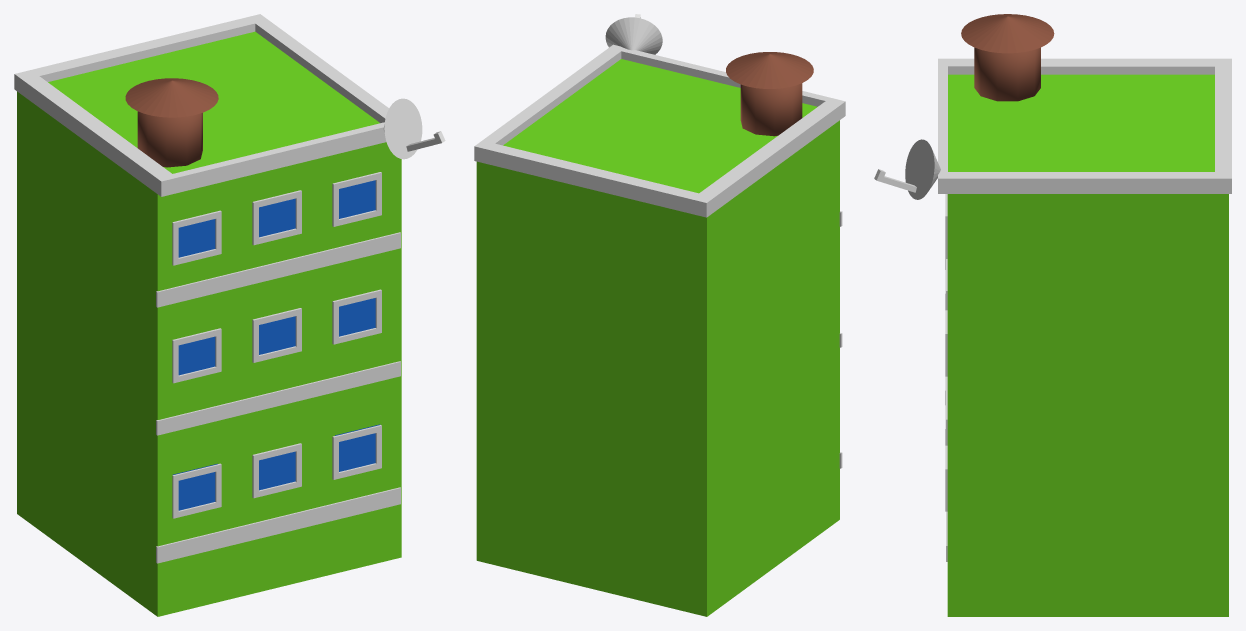
The model's file is House 4.fbx.
3 renders of one model, left to right at view 1: azimuth 30°, elevation 25°; view 2: azimuth 150°, elevation 25°; view 3: azimuth 270°, elevation 25°, orthographic. The views are drawn at different scales.
Parts seen in each view (by area): view 1: House 4, House 4 Details, House 4 Windows, House 4 Details 2, Satalattile; view 2: House 4, House 4 Details, House 4 Details 2, Satalattile; view 3: House 4, House 4 Details, House 4 Details 2, Satalattile.
Boxes of the visible parts, bbox=[...] form: House 4: bbox=[17, 31, 401, 616]; House 4 Details: bbox=[14, 14, 400, 563]; House 4 Windows: bbox=[173, 180, 380, 510]; House 4 Details 2: bbox=[125, 78, 218, 167]; Satalattile: bbox=[383, 98, 445, 159]; House 4: bbox=[476, 59, 839, 616]; House 4 Details: bbox=[474, 44, 845, 468]; House 4 Details 2: bbox=[726, 52, 813, 136]; Satalattile: bbox=[605, 14, 662, 54]; House 4: bbox=[947, 74, 1228, 616]; House 4 Details: bbox=[938, 58, 1231, 561]; House 4 Details 2: bbox=[961, 14, 1054, 101]; Satalattile: bbox=[874, 139, 940, 199].
Size of the model in its own units: 211 by 395 by 254.
